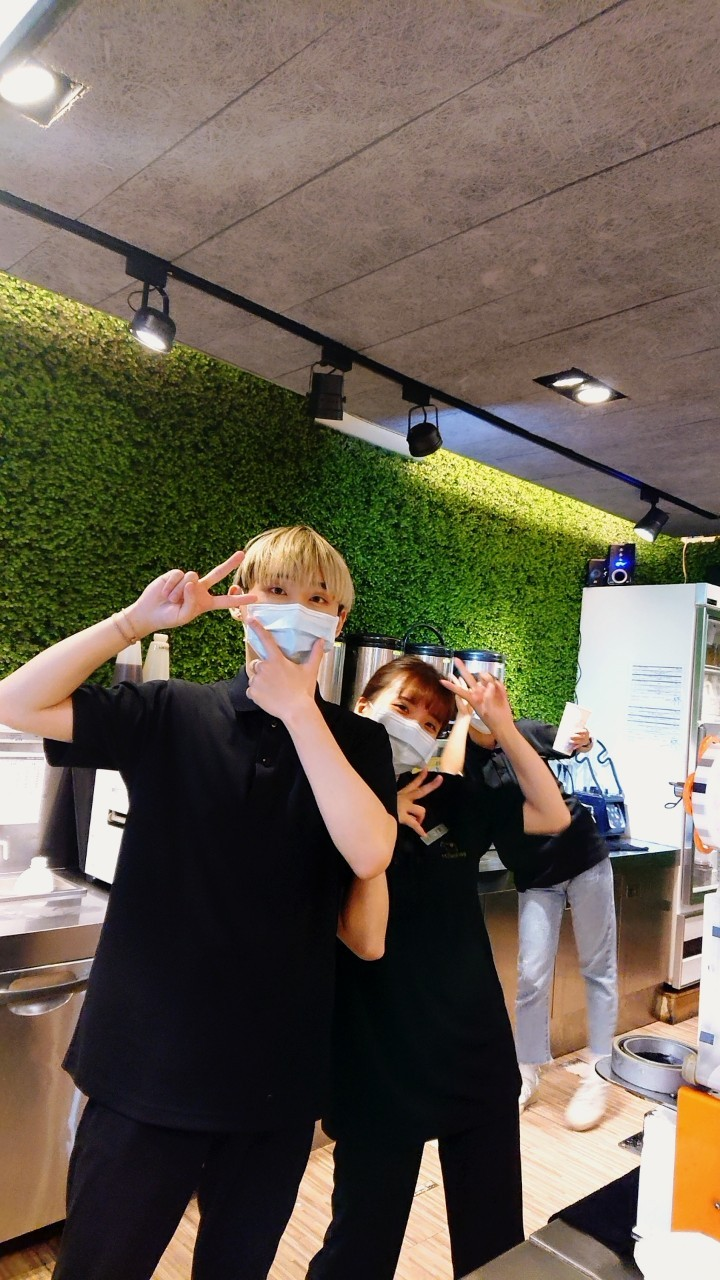people: (56, 527, 391, 1280), (340, 661, 581, 1280)
